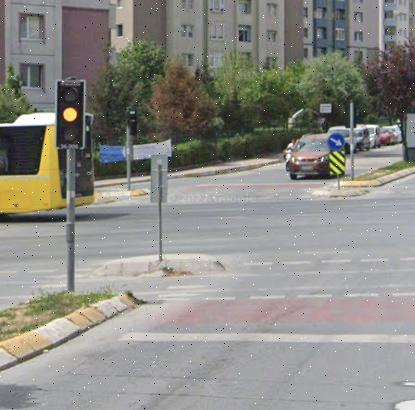yellowlight: (56, 79, 85, 147)
